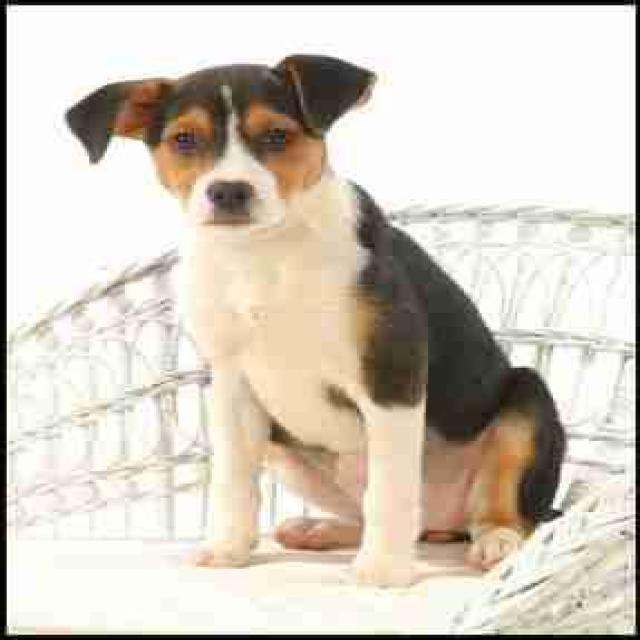dogs: (31, 38, 600, 598)
